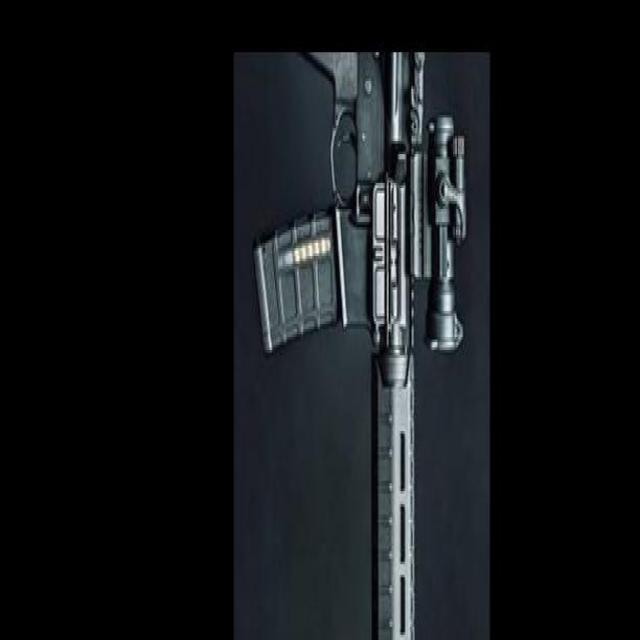weapon: (254, 50, 468, 640)
